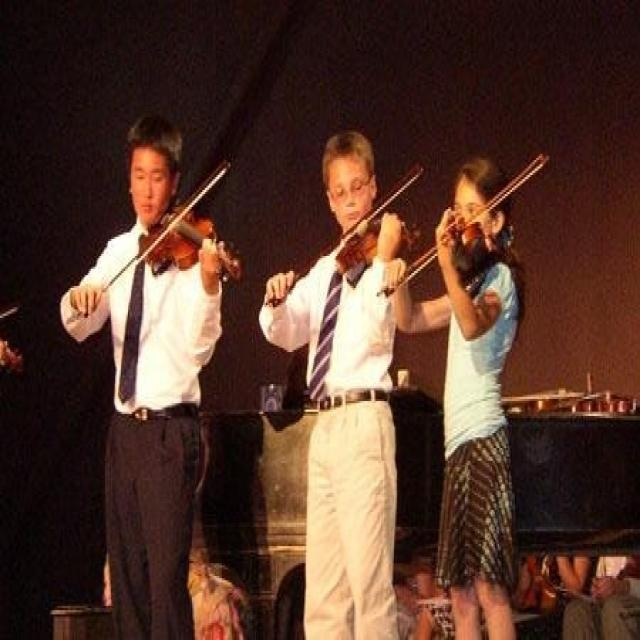violin: (135, 195, 244, 284), (333, 213, 422, 273), (438, 212, 483, 276)
